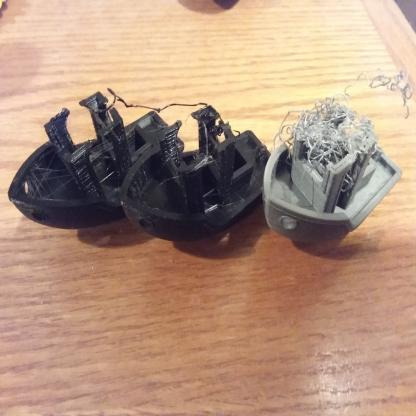fail: (279, 98, 362, 176), (27, 159, 71, 189)
